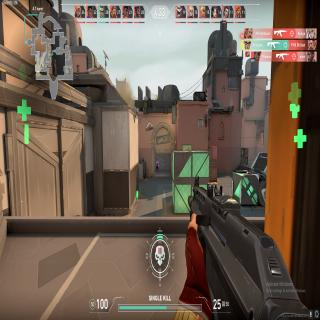ENEMY-BODY: (156, 158, 159, 174)
ENEMY-HEAD: (157, 159, 158, 161)
